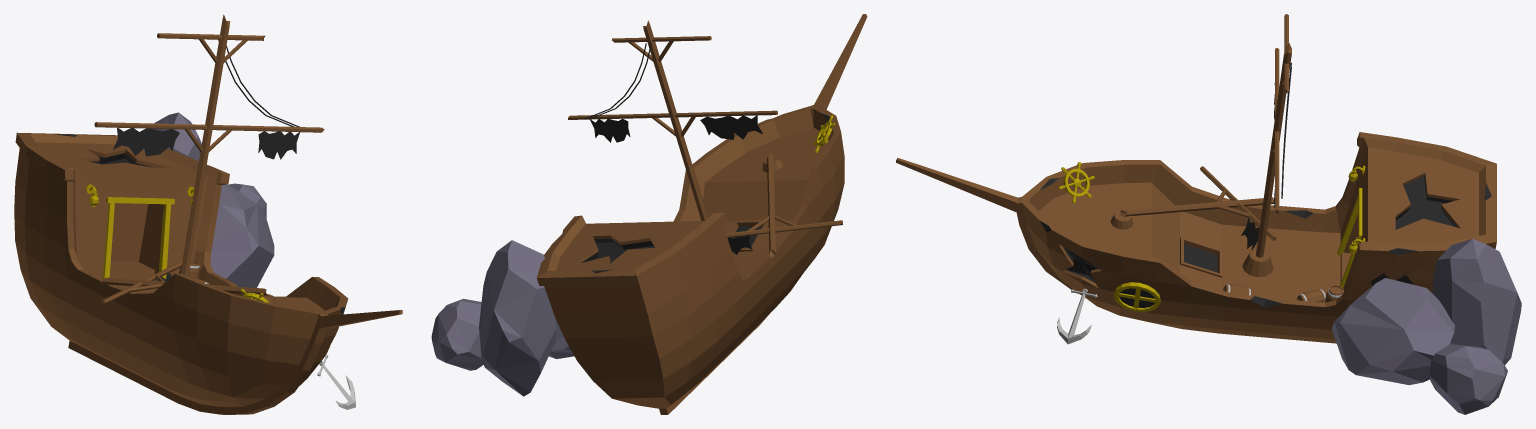
File: MainHouse.fbx
3 views of the same model, side by side, from view 1: azimuth 30°, elevation 25°; view 2: azimuth 150°, elevation 25°; view 3: azimuth 270°, elevation 25° (orthographic). The views are drawn at different scales.
Parts seen in each view (by area): view 1: MainHouse, prop_rock_m_001, prop_rock_l_001, prop_rock_s_001; view 2: MainHouse, prop_rock_l_001, prop_rock_s_001, prop_rock_m_001; view 3: MainHouse, prop_rock_m_001, prop_rock_l_001, prop_rock_s_001.
Part boxes in pixels (box(x1,y1,x2,y2)): MainHouse: box(14, 14, 402, 414); prop_rock_m_001: box(210, 184, 274, 287); prop_rock_l_001: box(152, 112, 201, 161); prop_rock_s_001: box(228, 183, 266, 218); MainHouse: box(537, 14, 867, 414); prop_rock_l_001: box(479, 240, 556, 396); prop_rock_s_001: box(431, 298, 483, 370); prop_rock_m_001: box(549, 318, 573, 358); MainHouse: box(896, 14, 1496, 344); prop_rock_m_001: box(1331, 278, 1454, 385); prop_rock_l_001: box(1432, 239, 1521, 365); prop_rock_s_001: box(1429, 344, 1507, 414).
Size of the model in its own units: 291 by 329 by 542.
